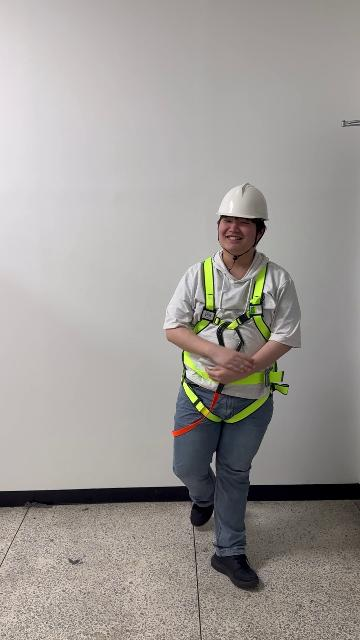helmet_worn: (216, 182, 269, 221)
shoe_not_worn: (210, 551, 258, 589), (190, 500, 214, 527)
vest_worn: (177, 260, 287, 421)
